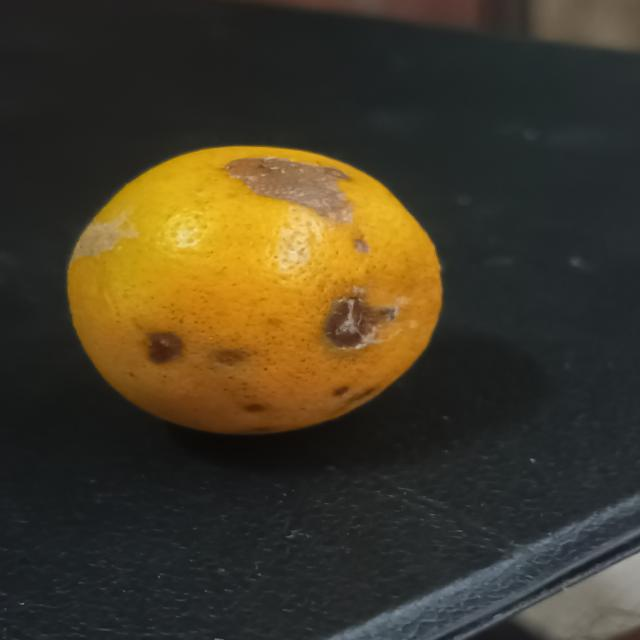black spot: (63, 142, 442, 436)
